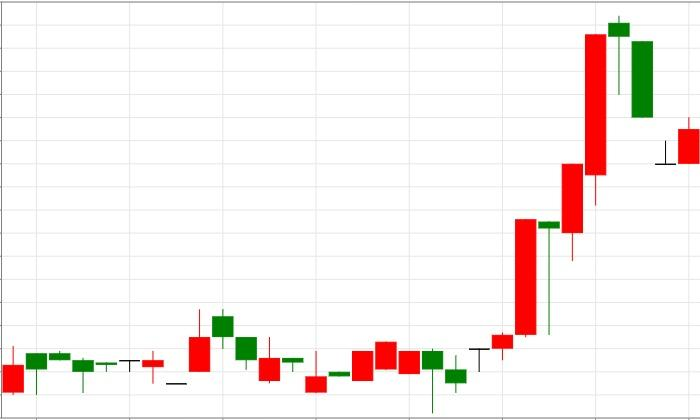evening_star_fall: (446, 16, 653, 393)
